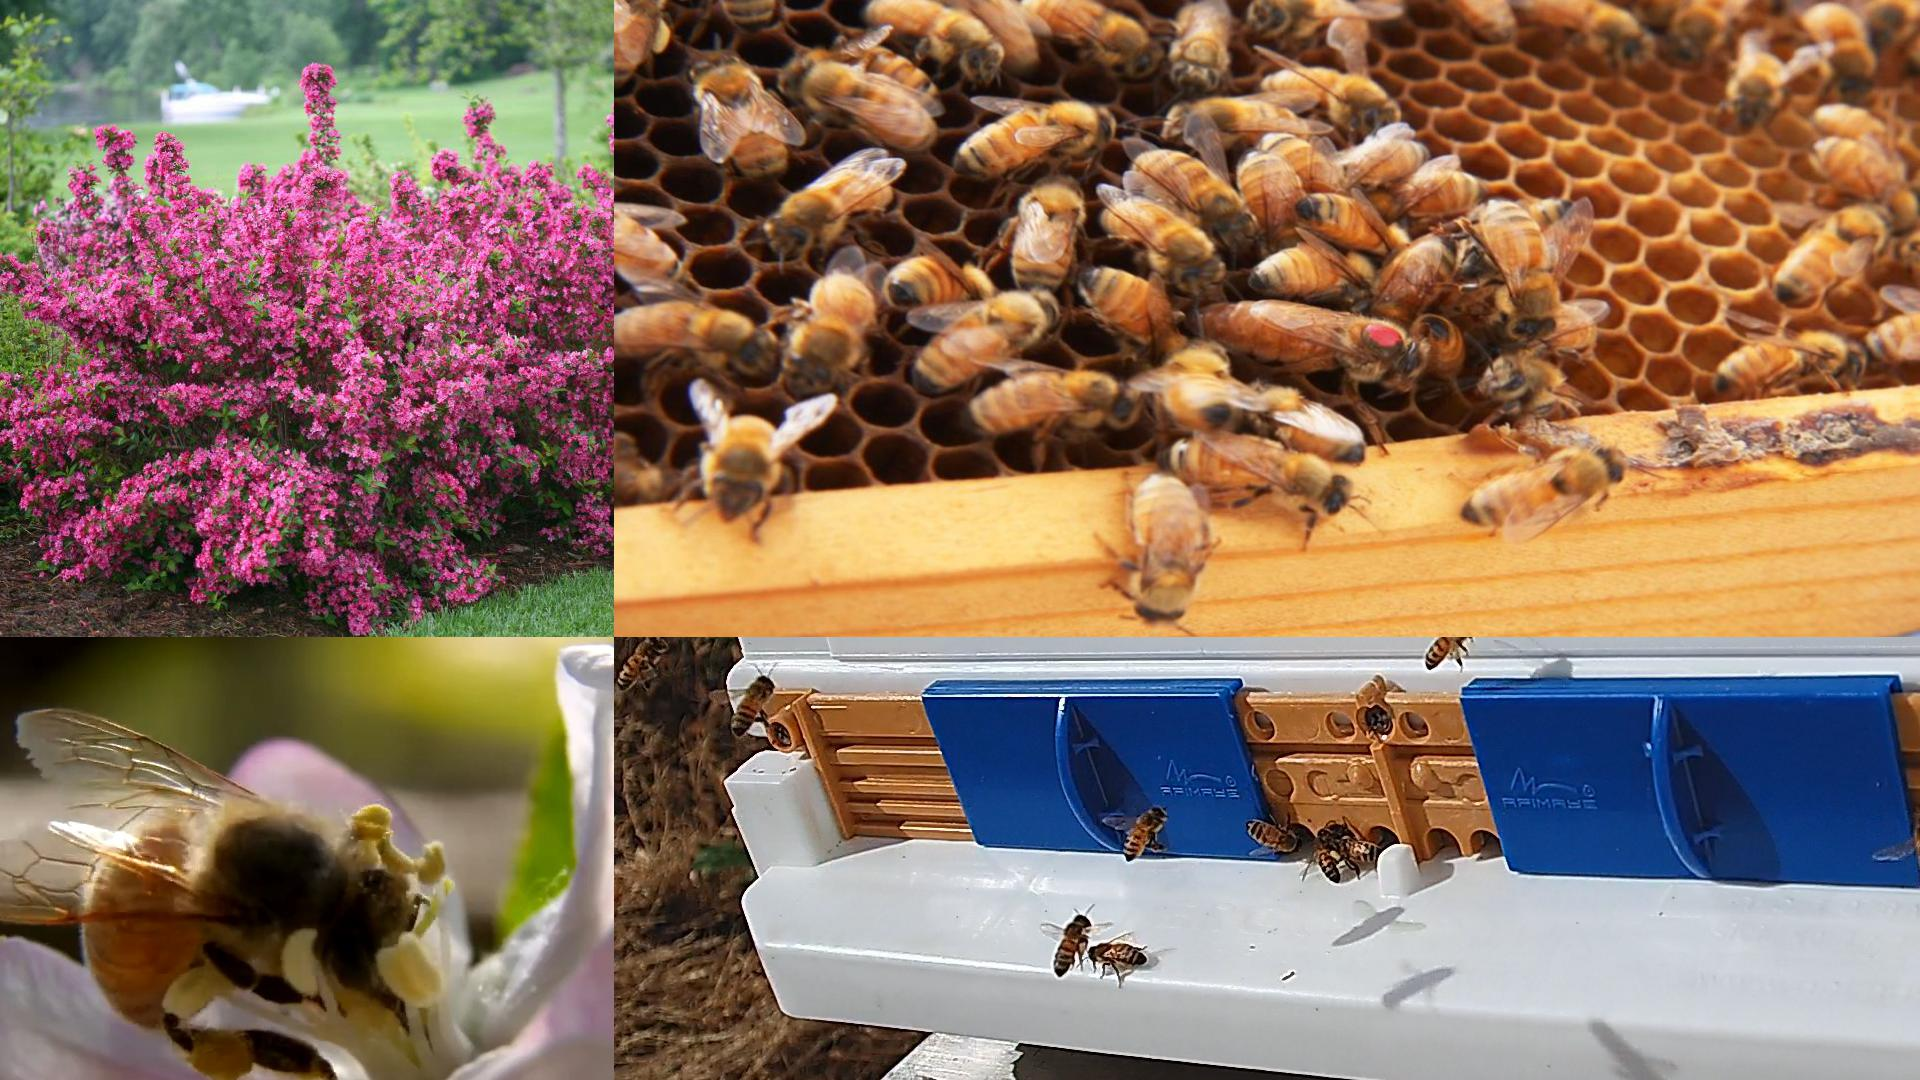bee: (913, 290, 1059, 397), (1162, 440, 1358, 516), (779, 58, 934, 152), (688, 55, 787, 183), (952, 98, 1114, 175), (1465, 450, 1625, 527), (1100, 199, 1222, 293), (1130, 149, 1254, 241), (1782, 206, 1895, 302), (866, 0, 1004, 76), (1713, 332, 1865, 401), (1478, 200, 1556, 334), (615, 302, 771, 368), (767, 170, 893, 252), (965, 371, 1133, 431), (787, 273, 874, 389), (1813, 137, 1916, 232), (1031, 0, 1160, 74), (1135, 475, 1199, 622), (1077, 268, 1182, 356), (702, 415, 789, 521), (1263, 65, 1406, 125), (1010, 174, 1081, 294), (1523, 0, 1650, 67), (1244, 389, 1362, 460), (1379, 227, 1462, 318), (1236, 150, 1307, 255), (1166, 100, 1309, 145), (827, 42, 938, 99), (1805, 5, 1875, 95), (886, 256, 998, 311), (615, 207, 684, 295), (1375, 171, 1486, 225), (1468, 196, 1569, 253), (961, 0, 1038, 71), (1478, 313, 1600, 357), (1477, 359, 1569, 415), (1168, 345, 1230, 430), (1259, 133, 1340, 198), (1172, 0, 1230, 88), (1329, 140, 1435, 186), (1250, 257, 1375, 295), (1812, 107, 1900, 157), (1727, 53, 1783, 128), (1677, 0, 1745, 57), (1253, 0, 1354, 33), (1857, 313, 1920, 364), (1418, 314, 1465, 378), (1445, 0, 1518, 41), (616, 637, 669, 692), (731, 673, 775, 736), (1125, 803, 1170, 861), (1055, 913, 1089, 977), (720, 0, 778, 32), (1245, 820, 1299, 852), (1089, 942, 1150, 969), (1425, 637, 1476, 670), (1349, 835, 1394, 864)
pollenbee: (80, 810, 410, 1033), (615, 0, 671, 78), (1315, 831, 1342, 882)
queen: (1188, 302, 1425, 389)
